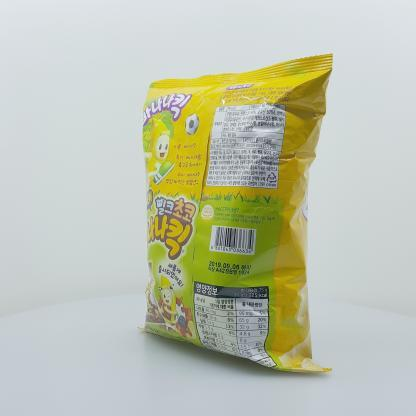Plastic Packaging: (131, 46, 353, 382)
